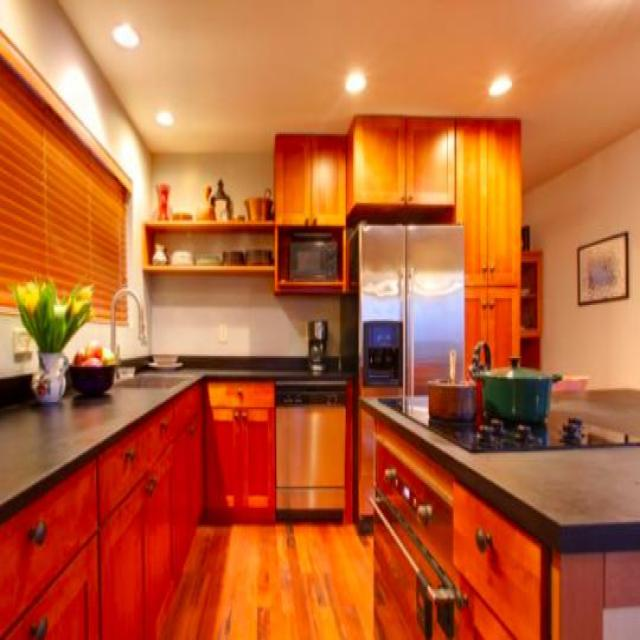dishwasher: (274, 377, 345, 508)
